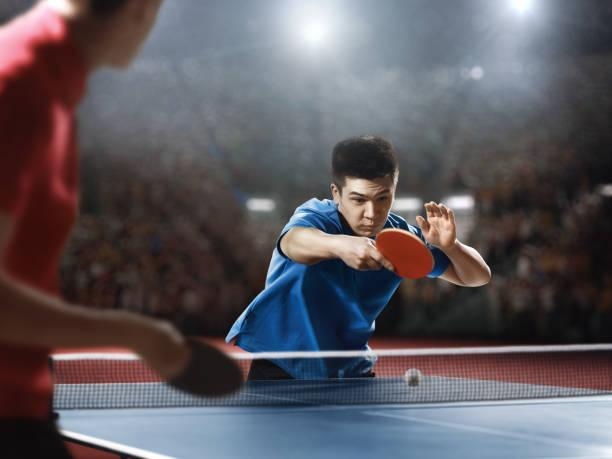ball_pingpong: (404, 368, 421, 386)
